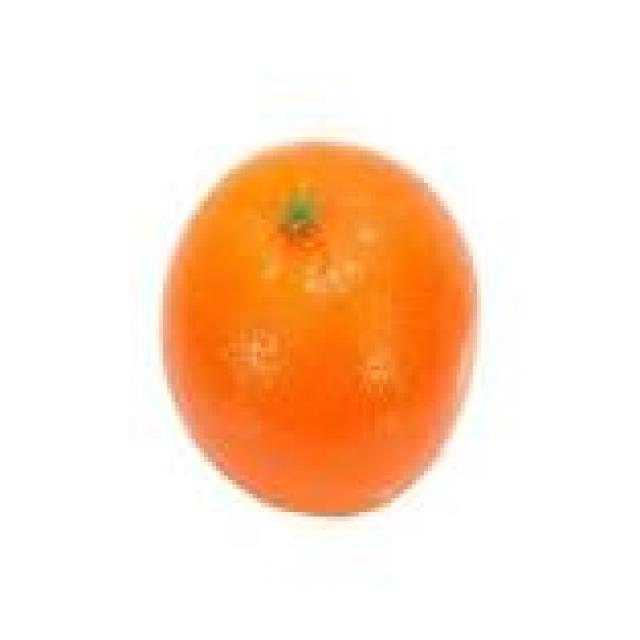orange: (165, 144, 475, 512)
